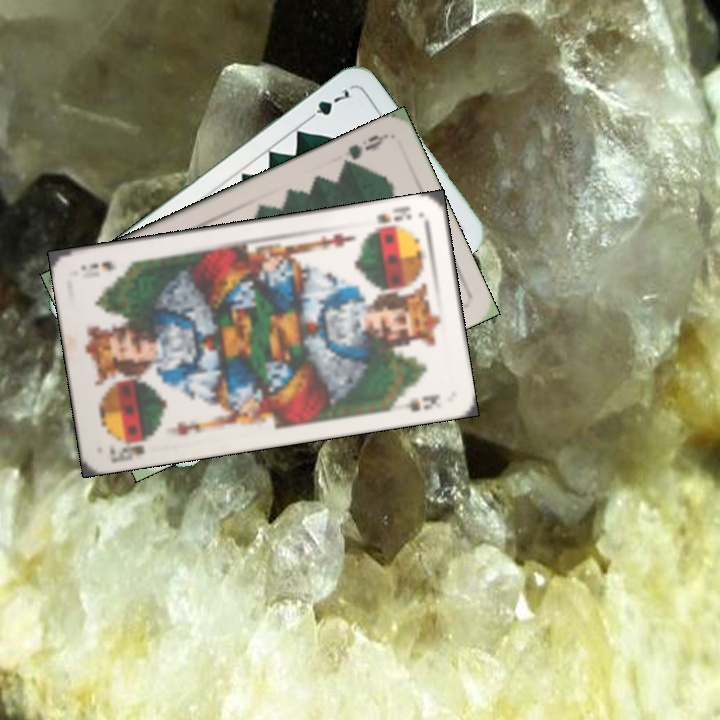G7: (301, 84, 352, 125)
G9: (337, 130, 389, 171)
SK: (372, 202, 415, 226), (105, 440, 147, 464)
